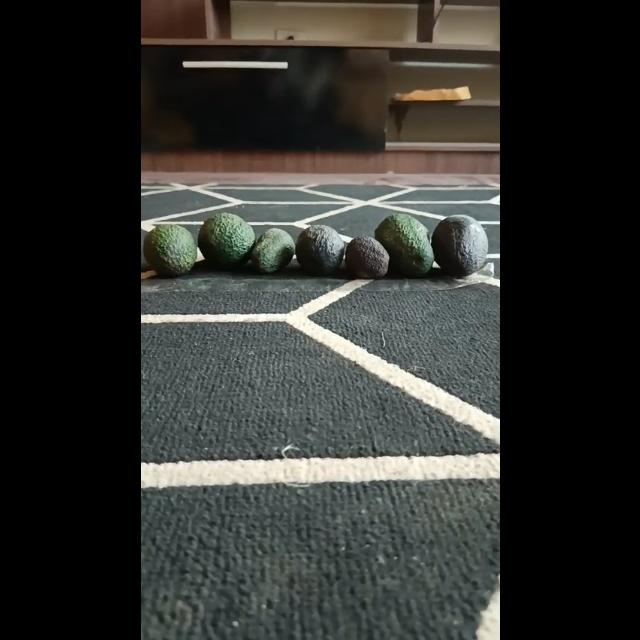Primera: (373, 213, 433, 277), (429, 214, 488, 278), (197, 212, 255, 268)
Segunda: (142, 224, 196, 278), (294, 224, 344, 276)
Tercera: (248, 226, 294, 274), (343, 234, 389, 280)
